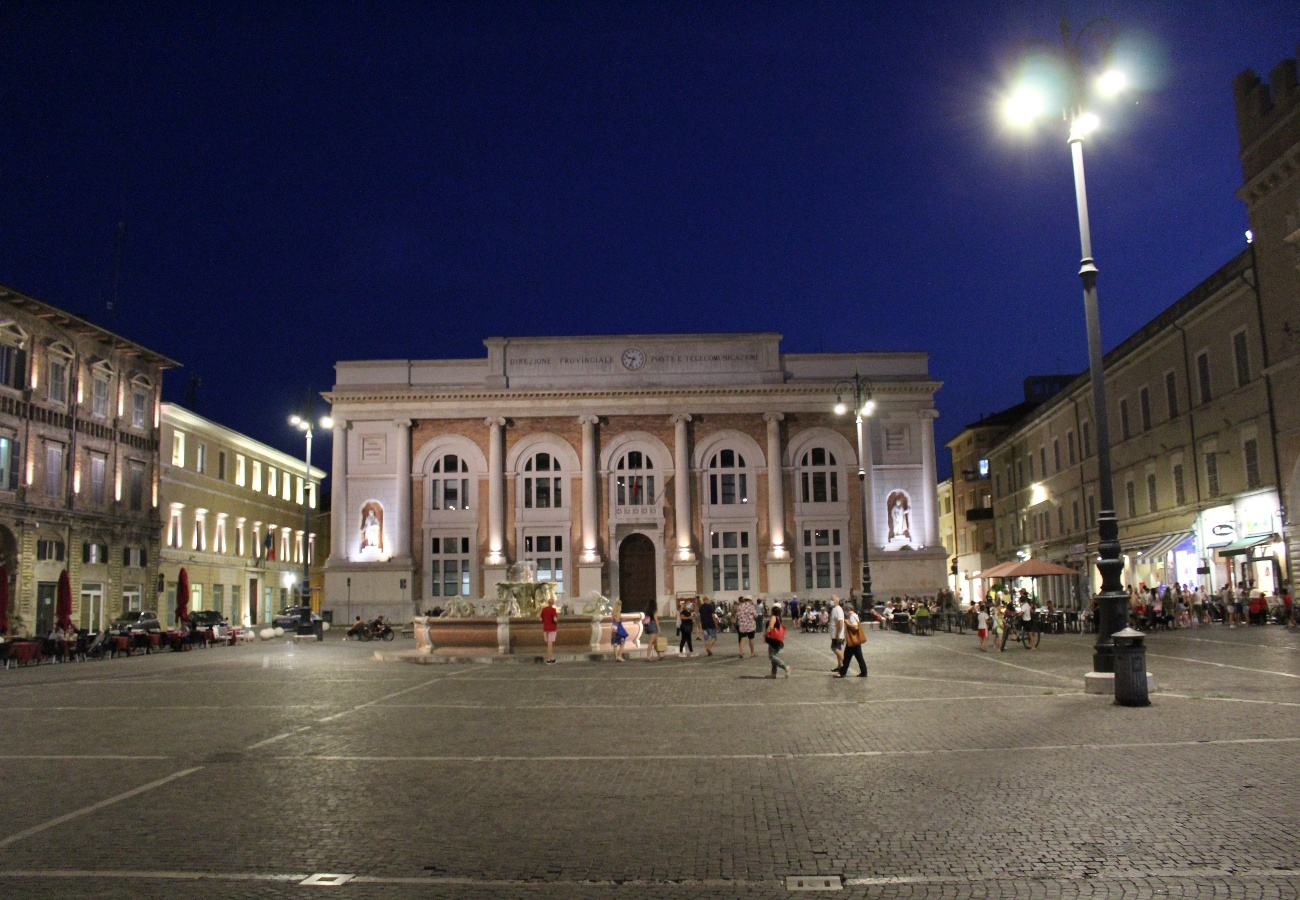Palazzo delle Poste: (314, 331, 944, 641)
